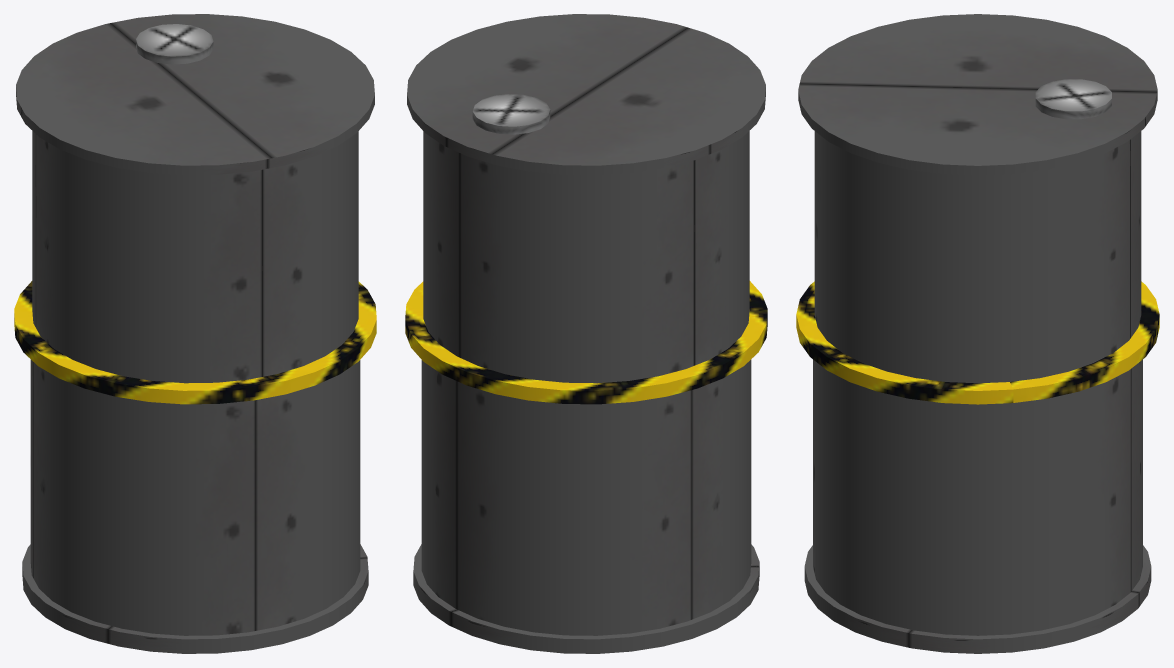
File: barrelFIXED.fbx
The picture shows the model from 3 angles, left to right: view 1: azimuth 30°, elevation 25°; view 2: azimuth 150°, elevation 25°; view 3: azimuth 270°, elevation 25°; orthographic projection.
Parts seen in each view (by area): view 1: Circle.001; view 2: Circle.001; view 3: Circle.001.
Part boxes in pixels (x1,y1,x2,y2): Circle.001: (14,14,376,653); Circle.001: (405,14,767,653); Circle.001: (796,14,1159,653).
Bounding box in the file's own units: 210 × 317 × 210.
Materials: 1 (1 with a texture image).
